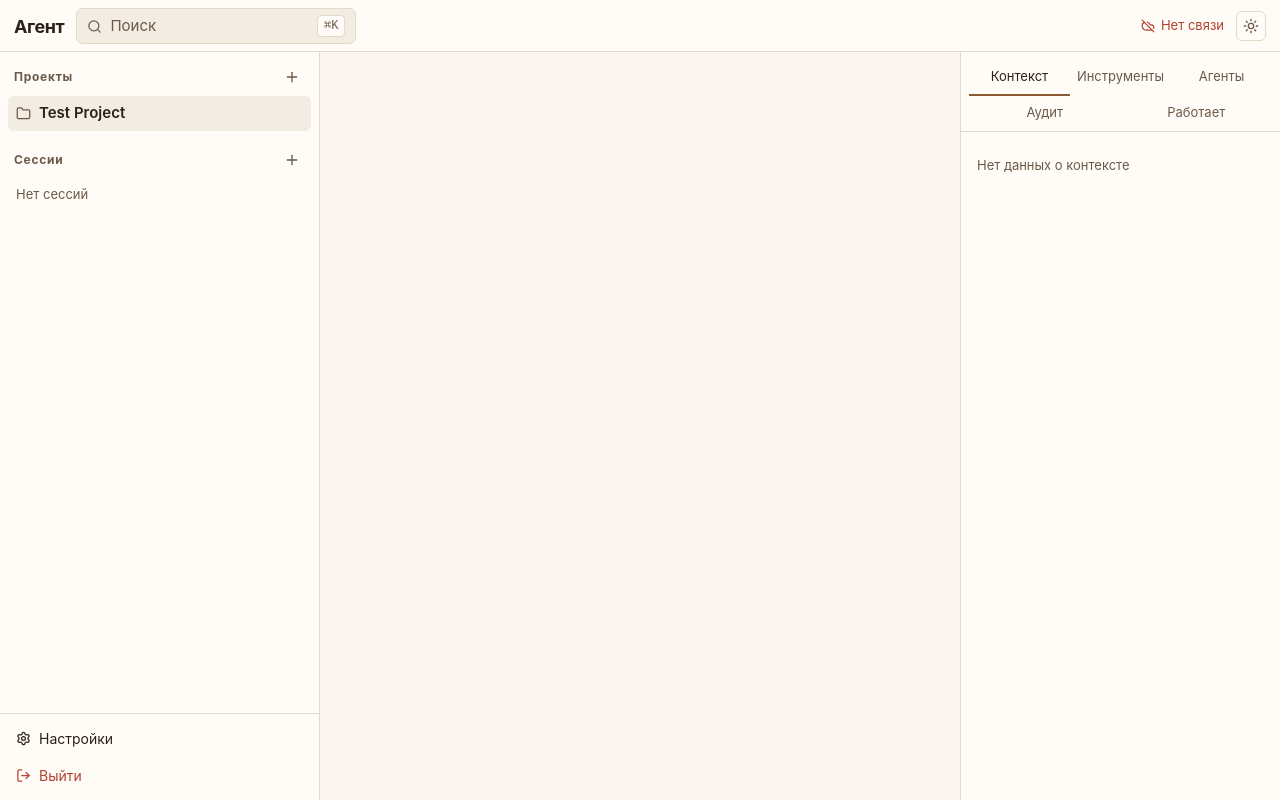
Test: App — project creation flow › closes and resets the form on success
Click the button named "Новый проект" at point(292, 77), box [279,64,305,90]
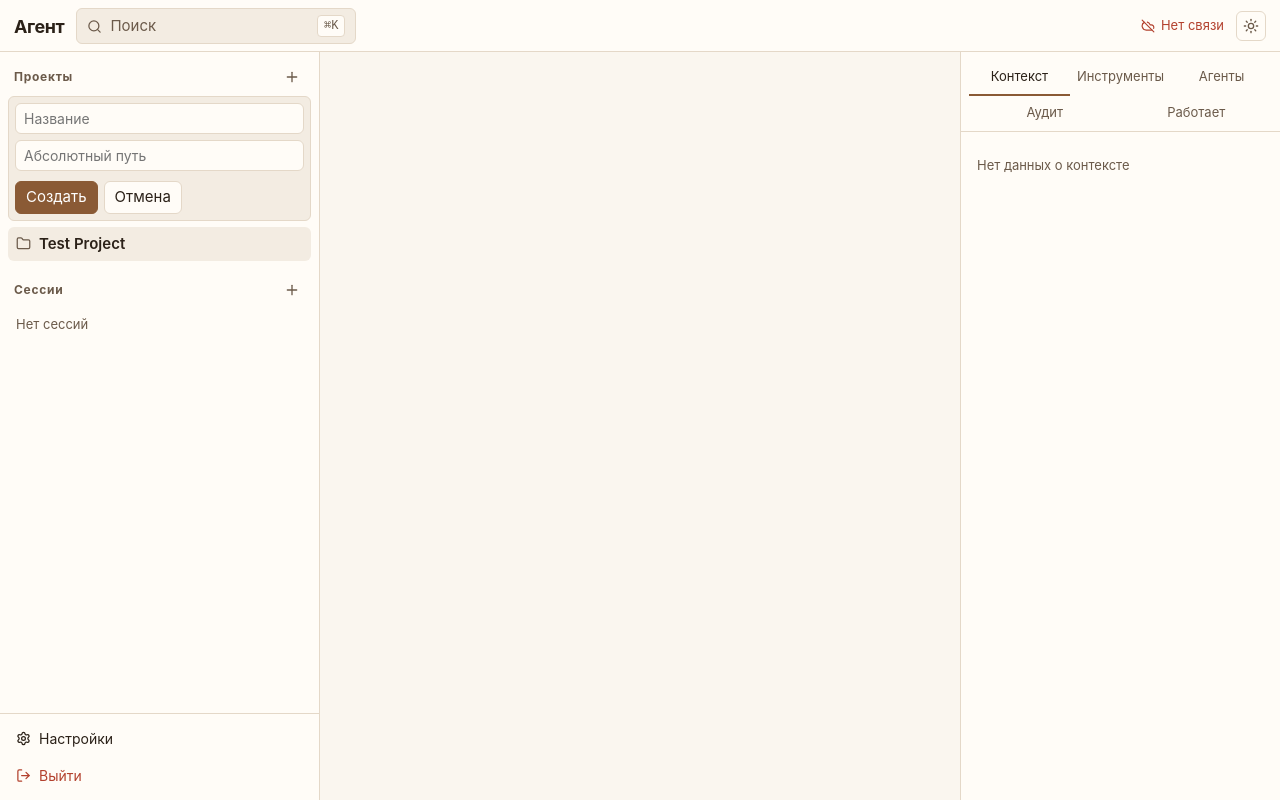
Type "Success" into the field with placeholder "Название" at point(160, 118), box [15,103,304,134]
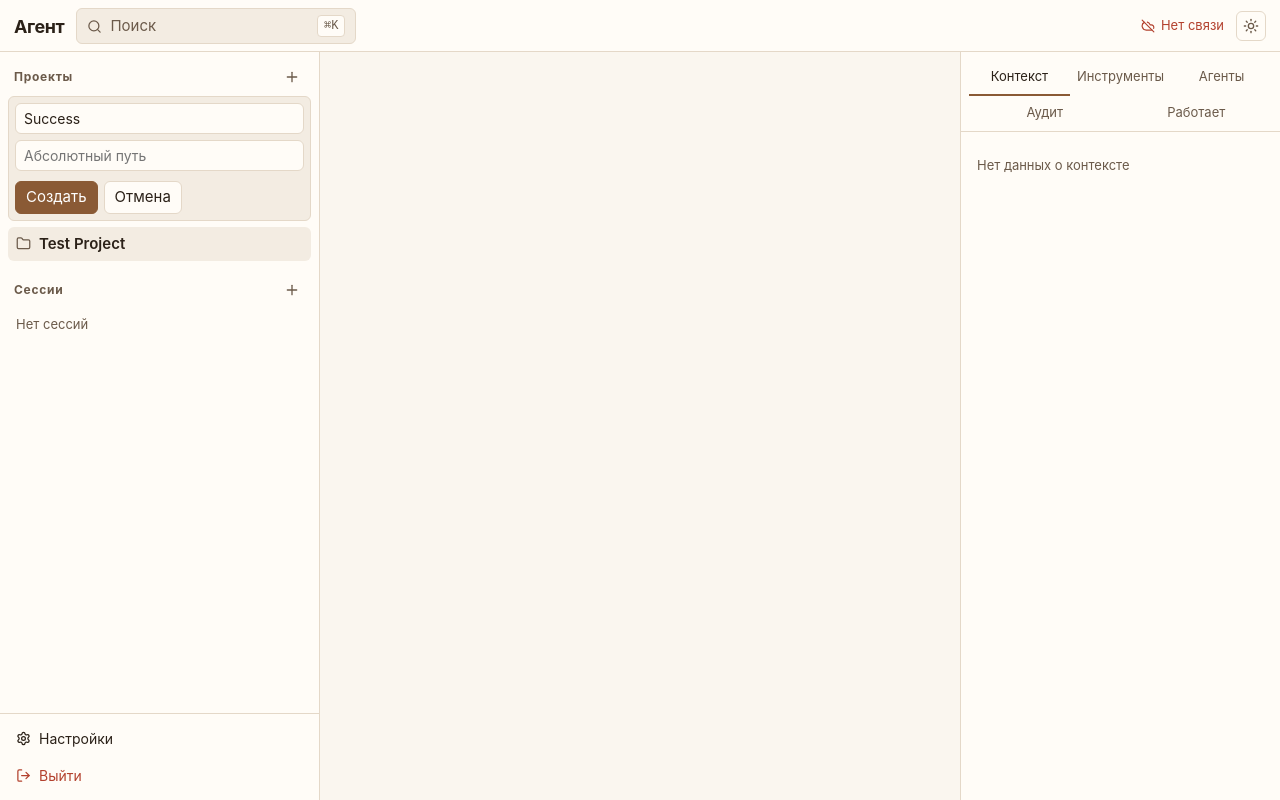
Type "/success" into the field with placeholder "Абсолютный путь" at point(160, 156), box [15,140,304,171]
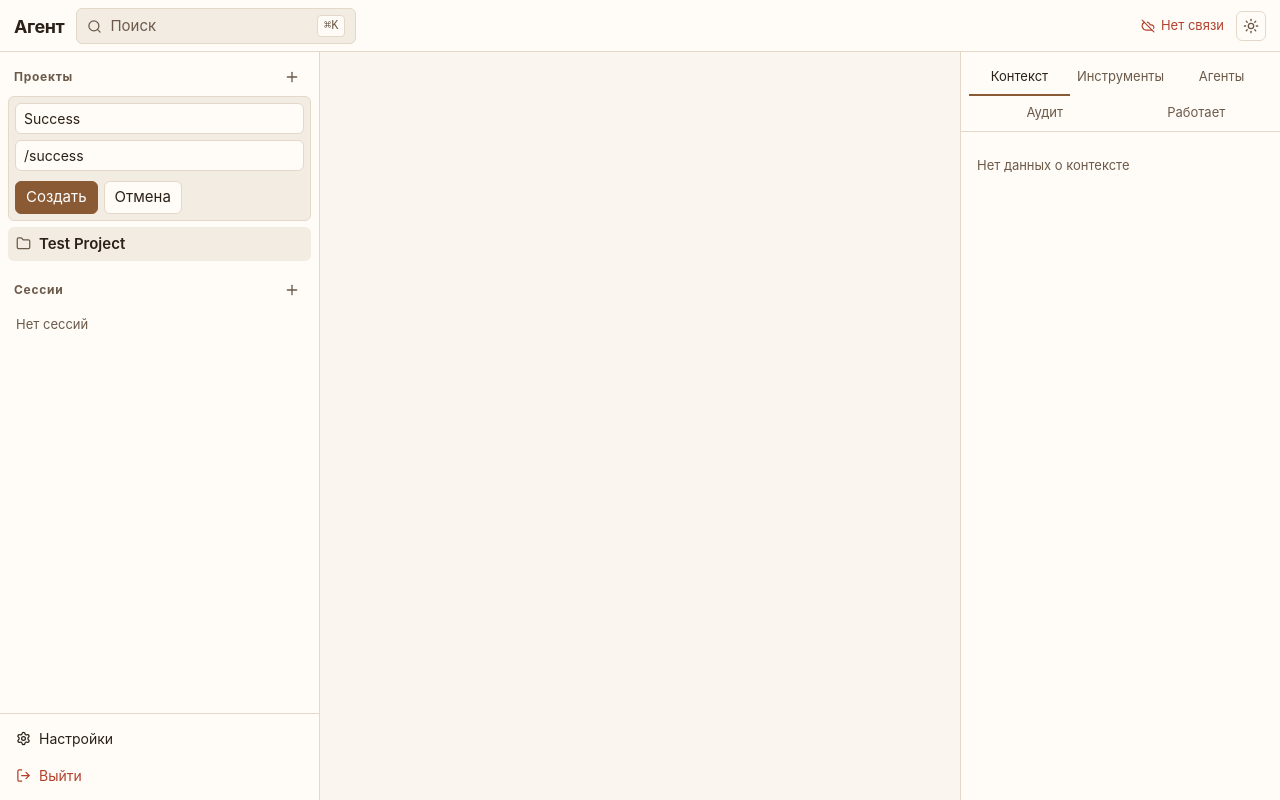
Submit the form, box [8,96,311,220]
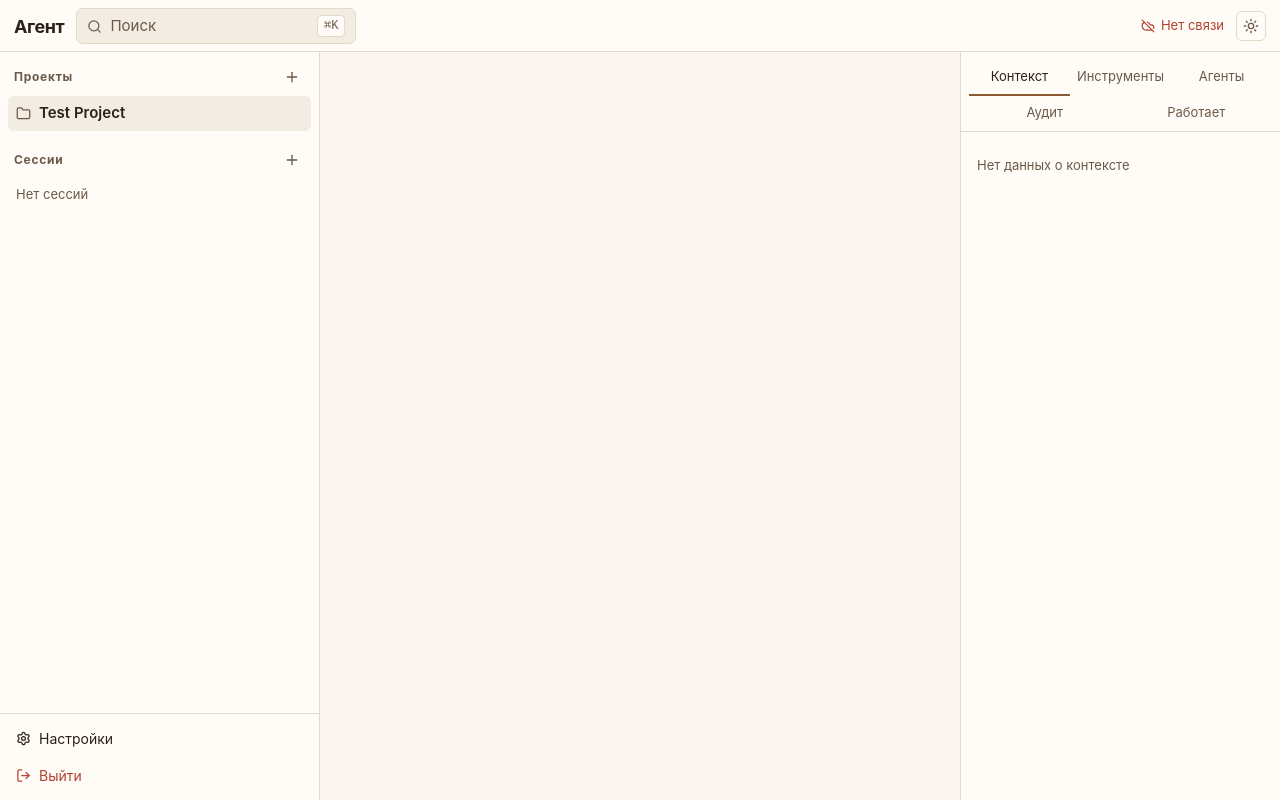
Click the button named "Новый проект" at point(292, 77), box [279,64,305,90]
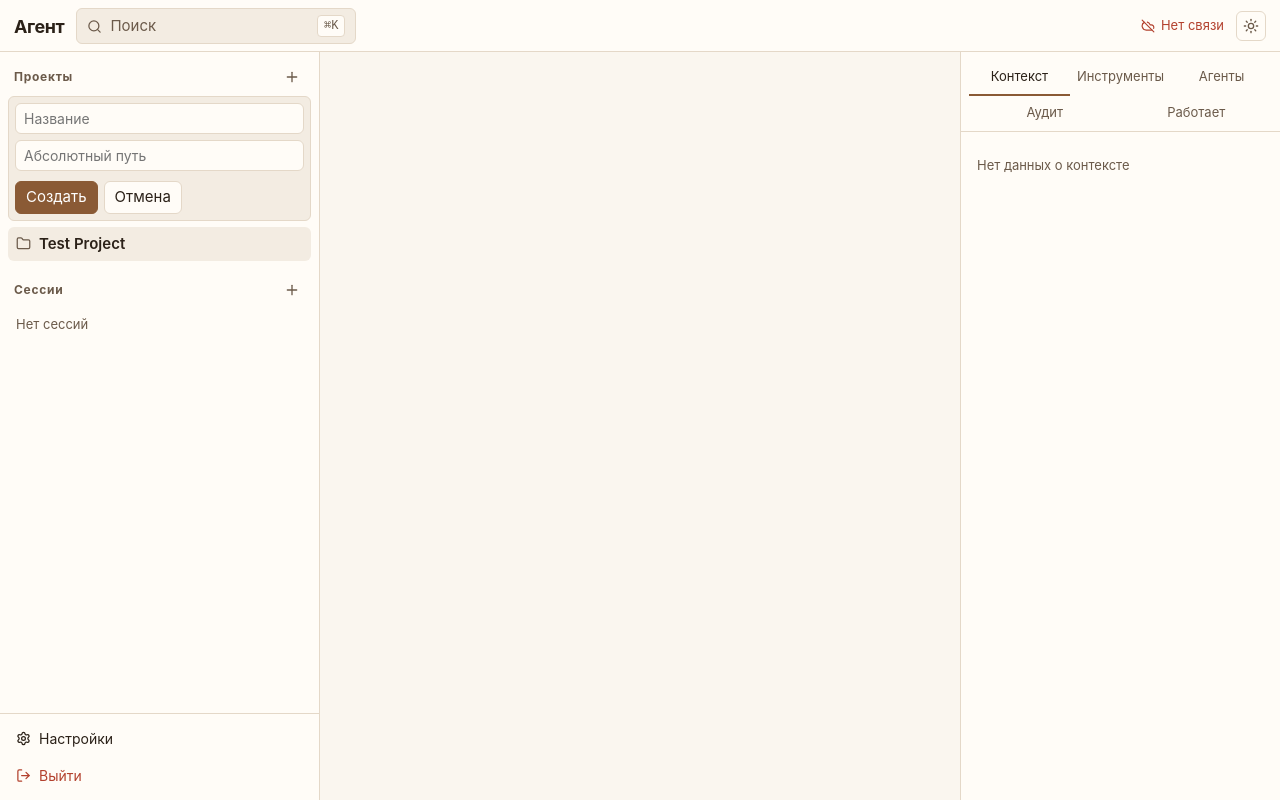
Result: the form is shown at [8,96,311,220]
Result: the field with placeholder "Название" is empty at [15,103,304,134]
Result: the field with placeholder "Абсолютный путь" is empty at [15,140,304,171]
